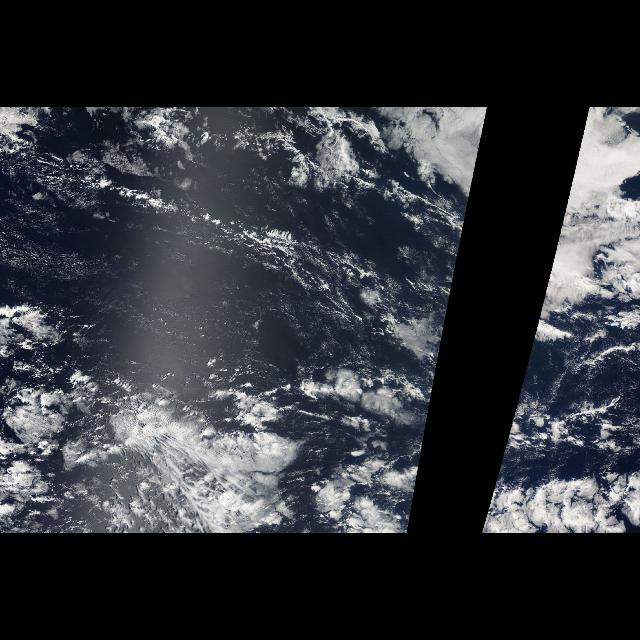Fish: (20, 146, 420, 356)
